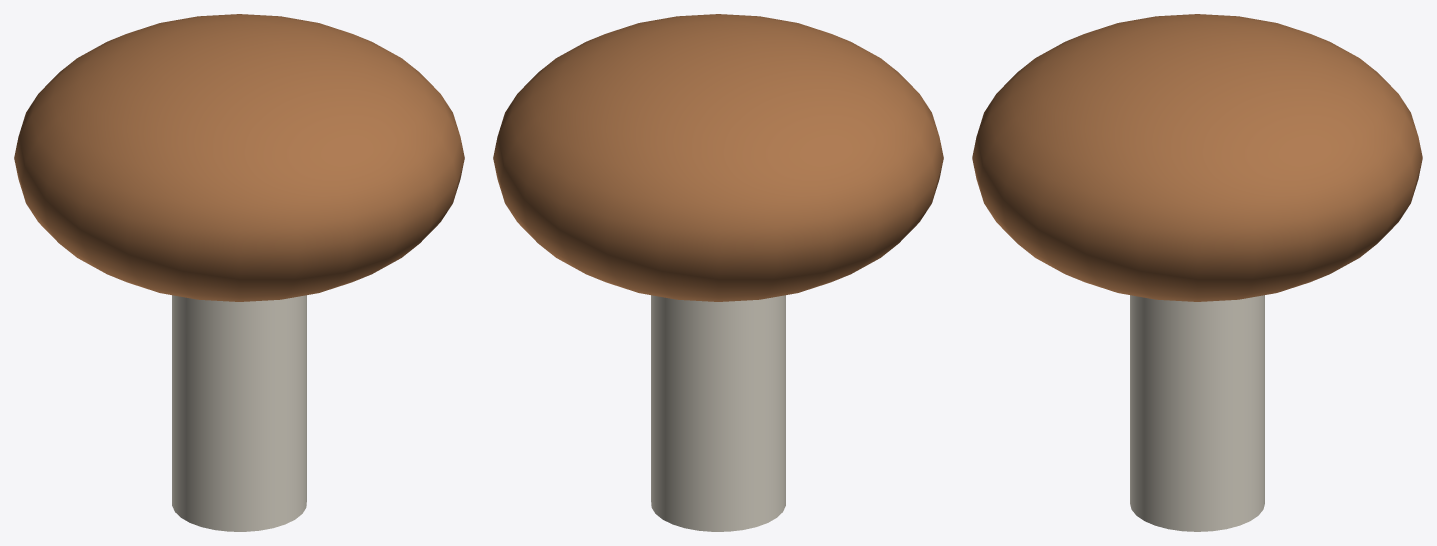
The model's file is wp-champignon.glb.
The picture shows the model from 3 angles, left to right: view 1: azimuth 30°, elevation 25°; view 2: azimuth 150°, elevation 25°; view 3: azimuth 270°, elevation 25°; orthographic projection.
Parts seen in each view (by area): view 1: wp-champignon; view 2: wp-champignon; view 3: wp-champignon.
Part boxes in pixels (left/top/right/bottom): wp-champignon: left=14, top=14, right=464, bottom=531; wp-champignon: left=493, top=14, right=943, bottom=531; wp-champignon: left=972, top=14, right=1422, bottom=531.
Bounding box in the file's own units: 0.09 × 0.1 × 0.09.
